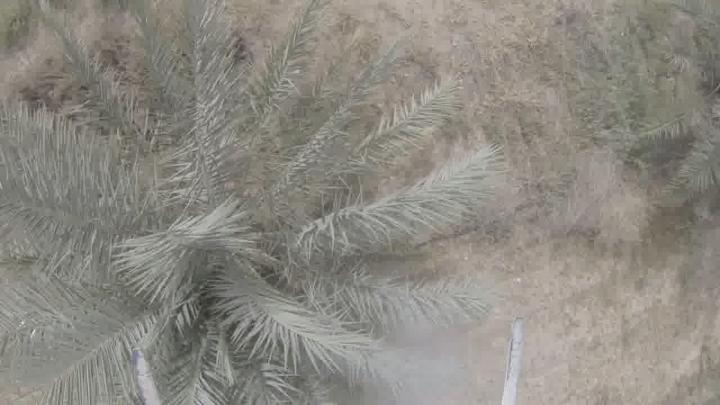Date-Palm-Crown: (77, 95, 379, 404)
